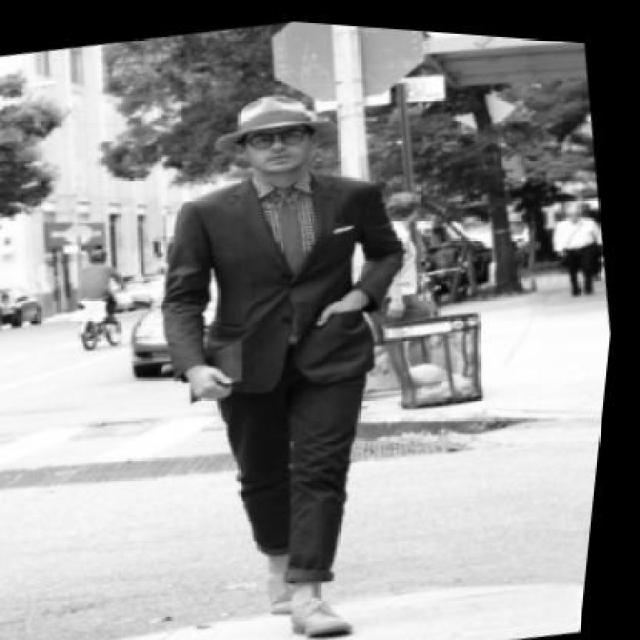hat: (206, 65, 351, 167)
